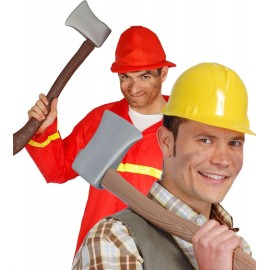casco: (161, 61, 258, 137)
